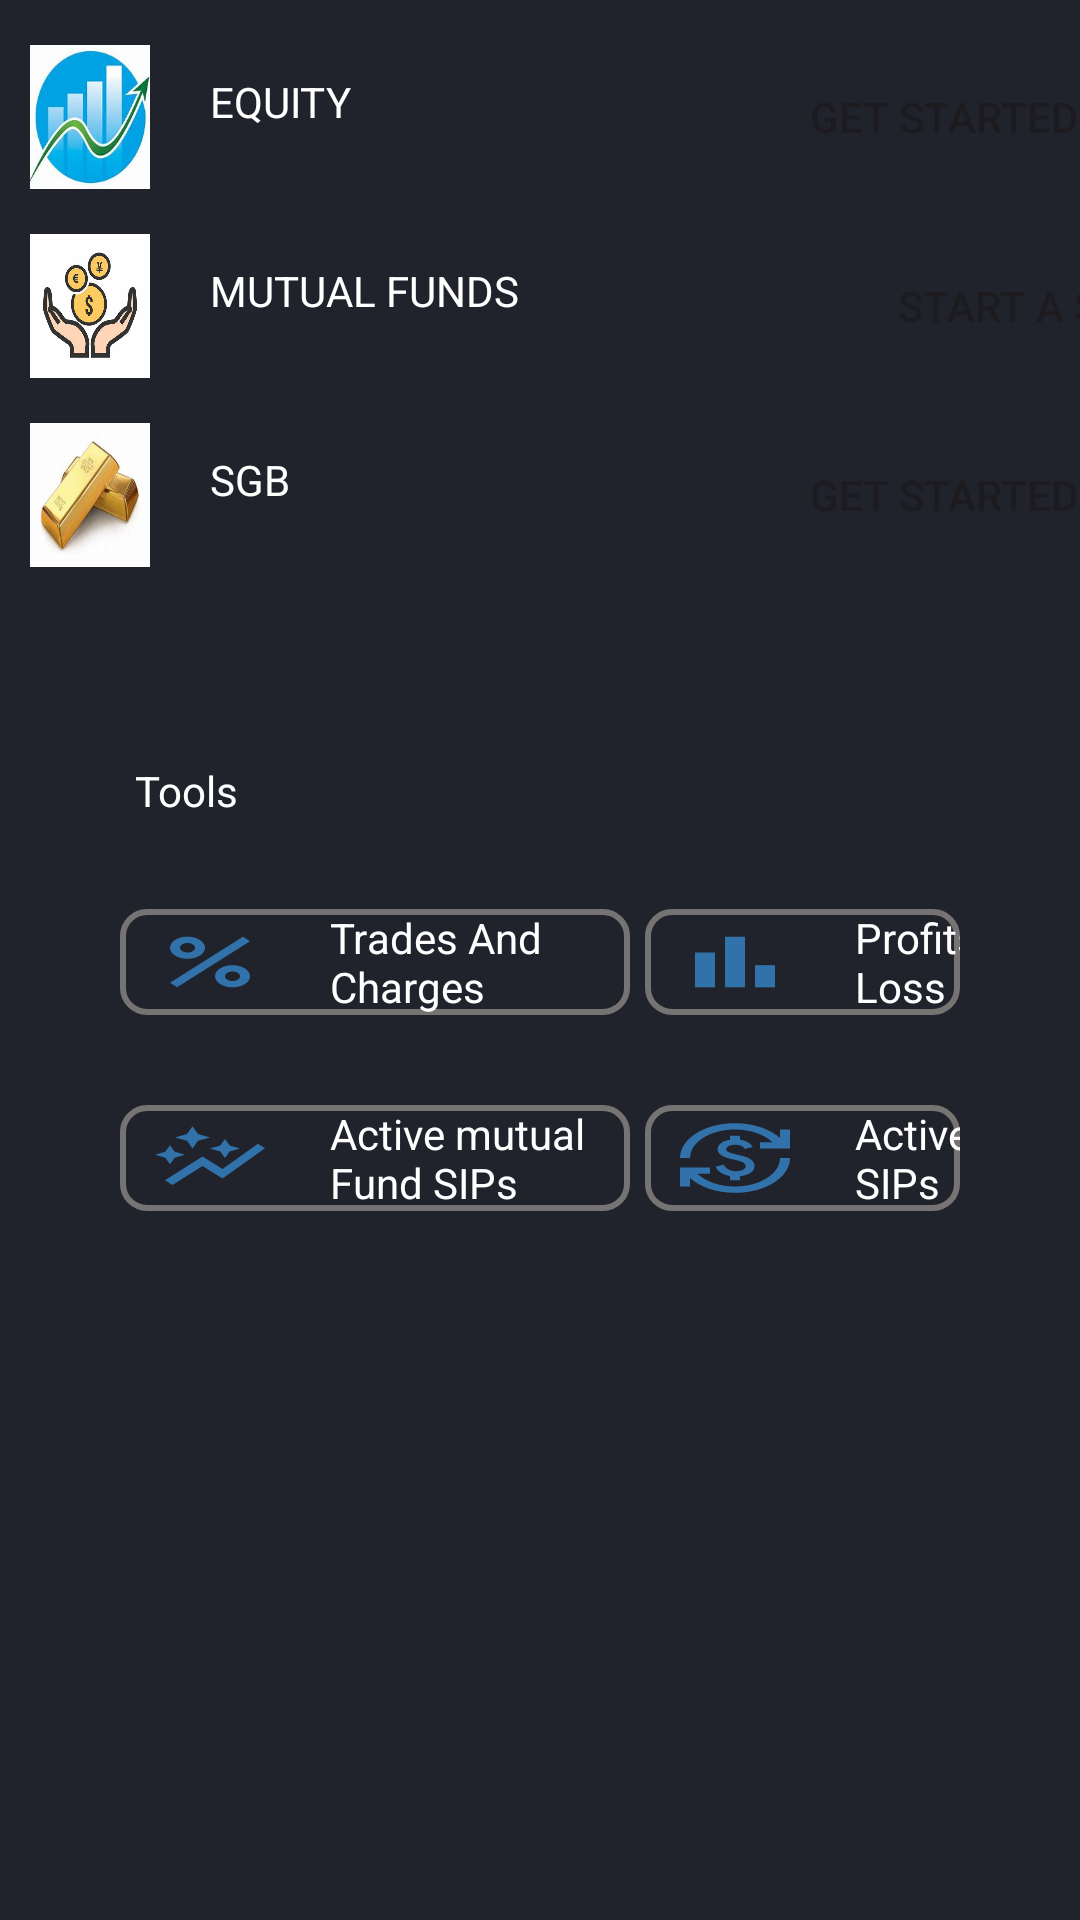

Icons on this 1080×1920 Android screen, each with its box as {"x1": x1, "y1": y1, "x2": x2, "y2": y2}:
percent: {"x1": 170, "y1": 936, "x2": 250, "y2": 988}
